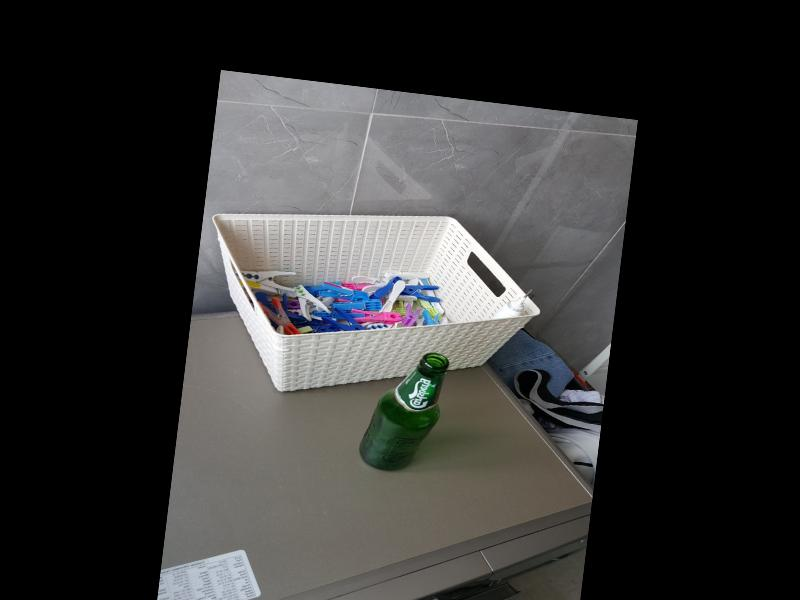Beer: (356, 345, 449, 476)
